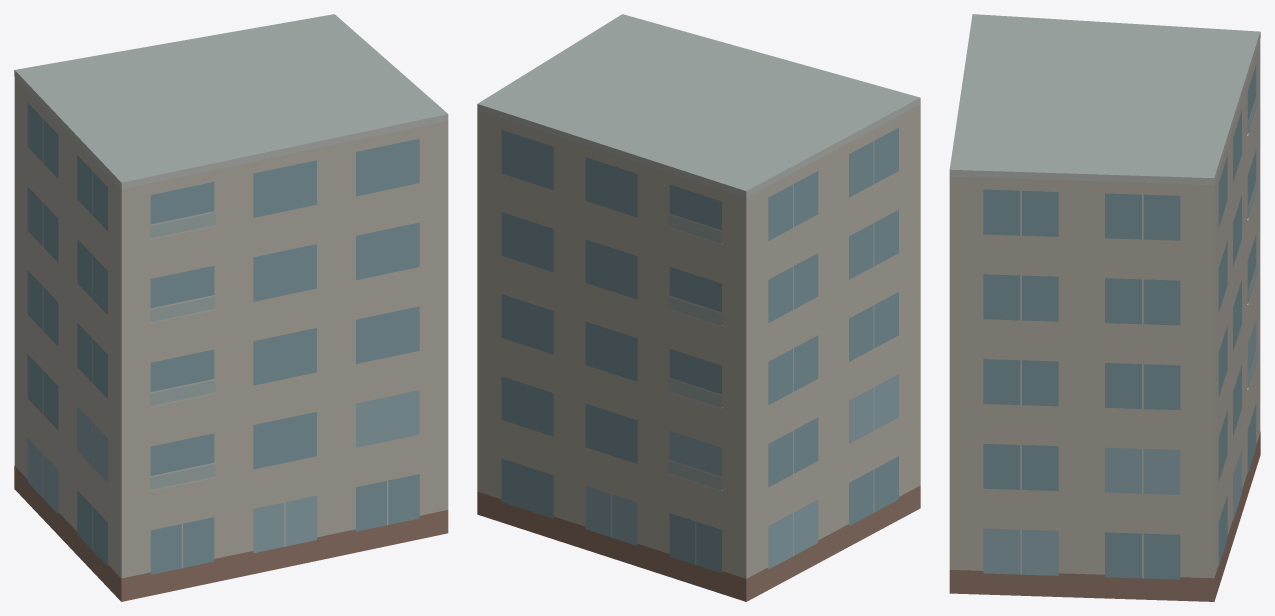
The model's file is survey-upis-32736466.glb.
3 views of the same model, side by side, from view 1: azimuth 30°, elevation 25°; view 2: azimuth 150°, elevation 25°; view 3: azimuth 270°, elevation 25° (orthographic). The views are drawn at different scales.
Parts seen in each view (by area): view 1: survey-upis-32736466.tmp; view 2: survey-upis-32736466.tmp; view 3: survey-upis-32736466.tmp.
Boxes of the visible parts, box(x1,y1,x2,y2) form: survey-upis-32736466.tmp: box(14, 14, 448, 601); survey-upis-32736466.tmp: box(477, 14, 920, 601); survey-upis-32736466.tmp: box(949, 14, 1260, 601).
Size of the model in its own units: 12.68 by 15.25 by 10.15.
